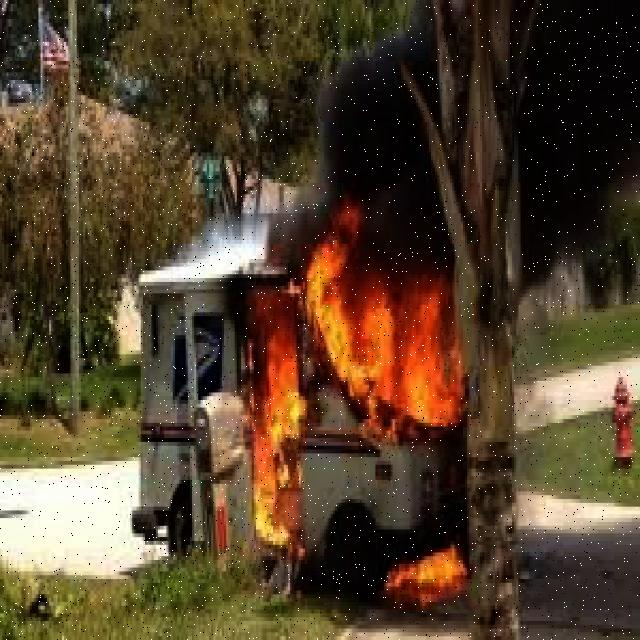fire: (308, 242, 458, 426), (245, 284, 304, 548), (372, 537, 468, 593)
smoke: (329, 4, 435, 237), (532, 17, 630, 220)
